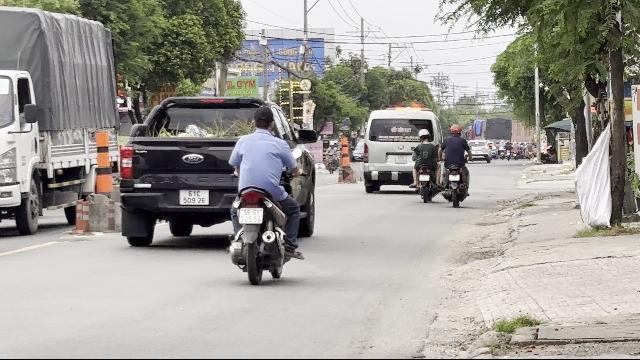licenseplate: (240, 208, 262, 224)
motorcyclist: (223, 105, 303, 283)
nohelmet: (251, 106, 275, 132)
